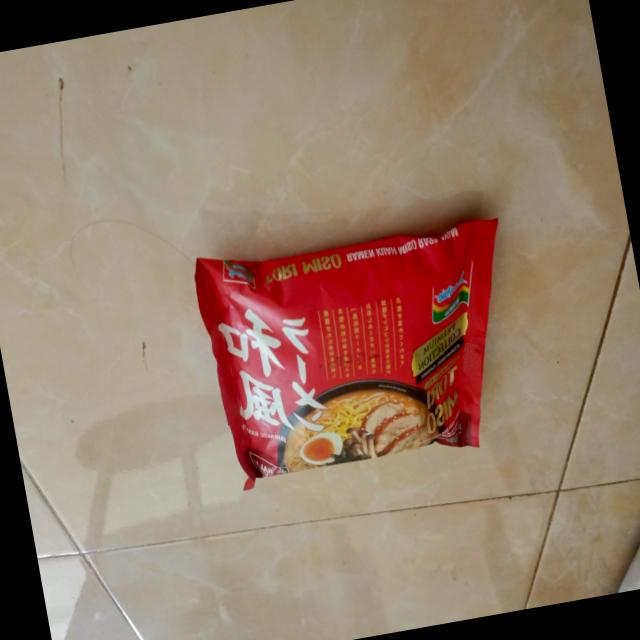indomie-tori-miso: (190, 202, 536, 494)
